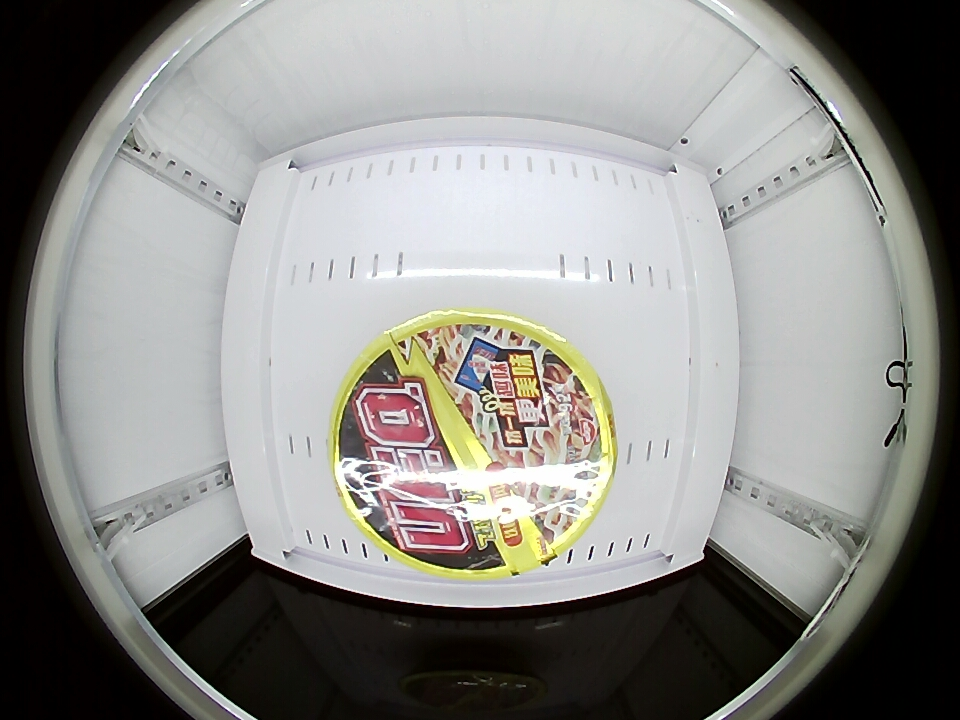ufo: (328, 310, 618, 579)
